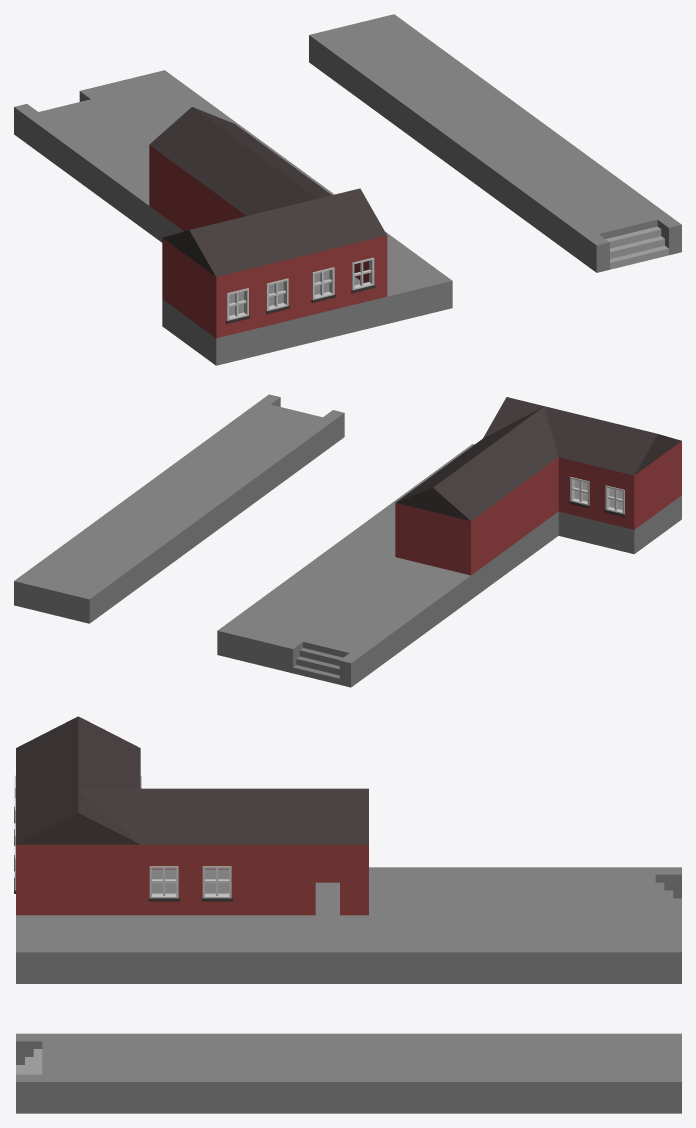
The model's file is Train_Station.fbx.
3 renders of one model, top to bottom at view 1: azimuth 30°, elevation 25°; view 2: azimuth 150°, elevation 25°; view 3: azimuth 270°, elevation 25°, orthographic. The views are drawn at different scales.
Visible parts, largest first — view 1: pCube103; view 2: pCube103; view 3: pCube103.
Part boxes in pixels (bbox=[...]): pCube103: bbox=[14, 14, 681, 365]; pCube103: bbox=[14, 394, 681, 687]; pCube103: bbox=[14, 716, 681, 1113].
Bounding box in the file's own units: 17.76 × 4.23 × 19.06.
